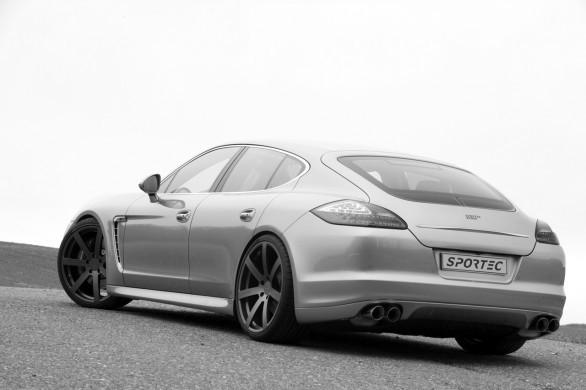car: (57, 140, 567, 360)
